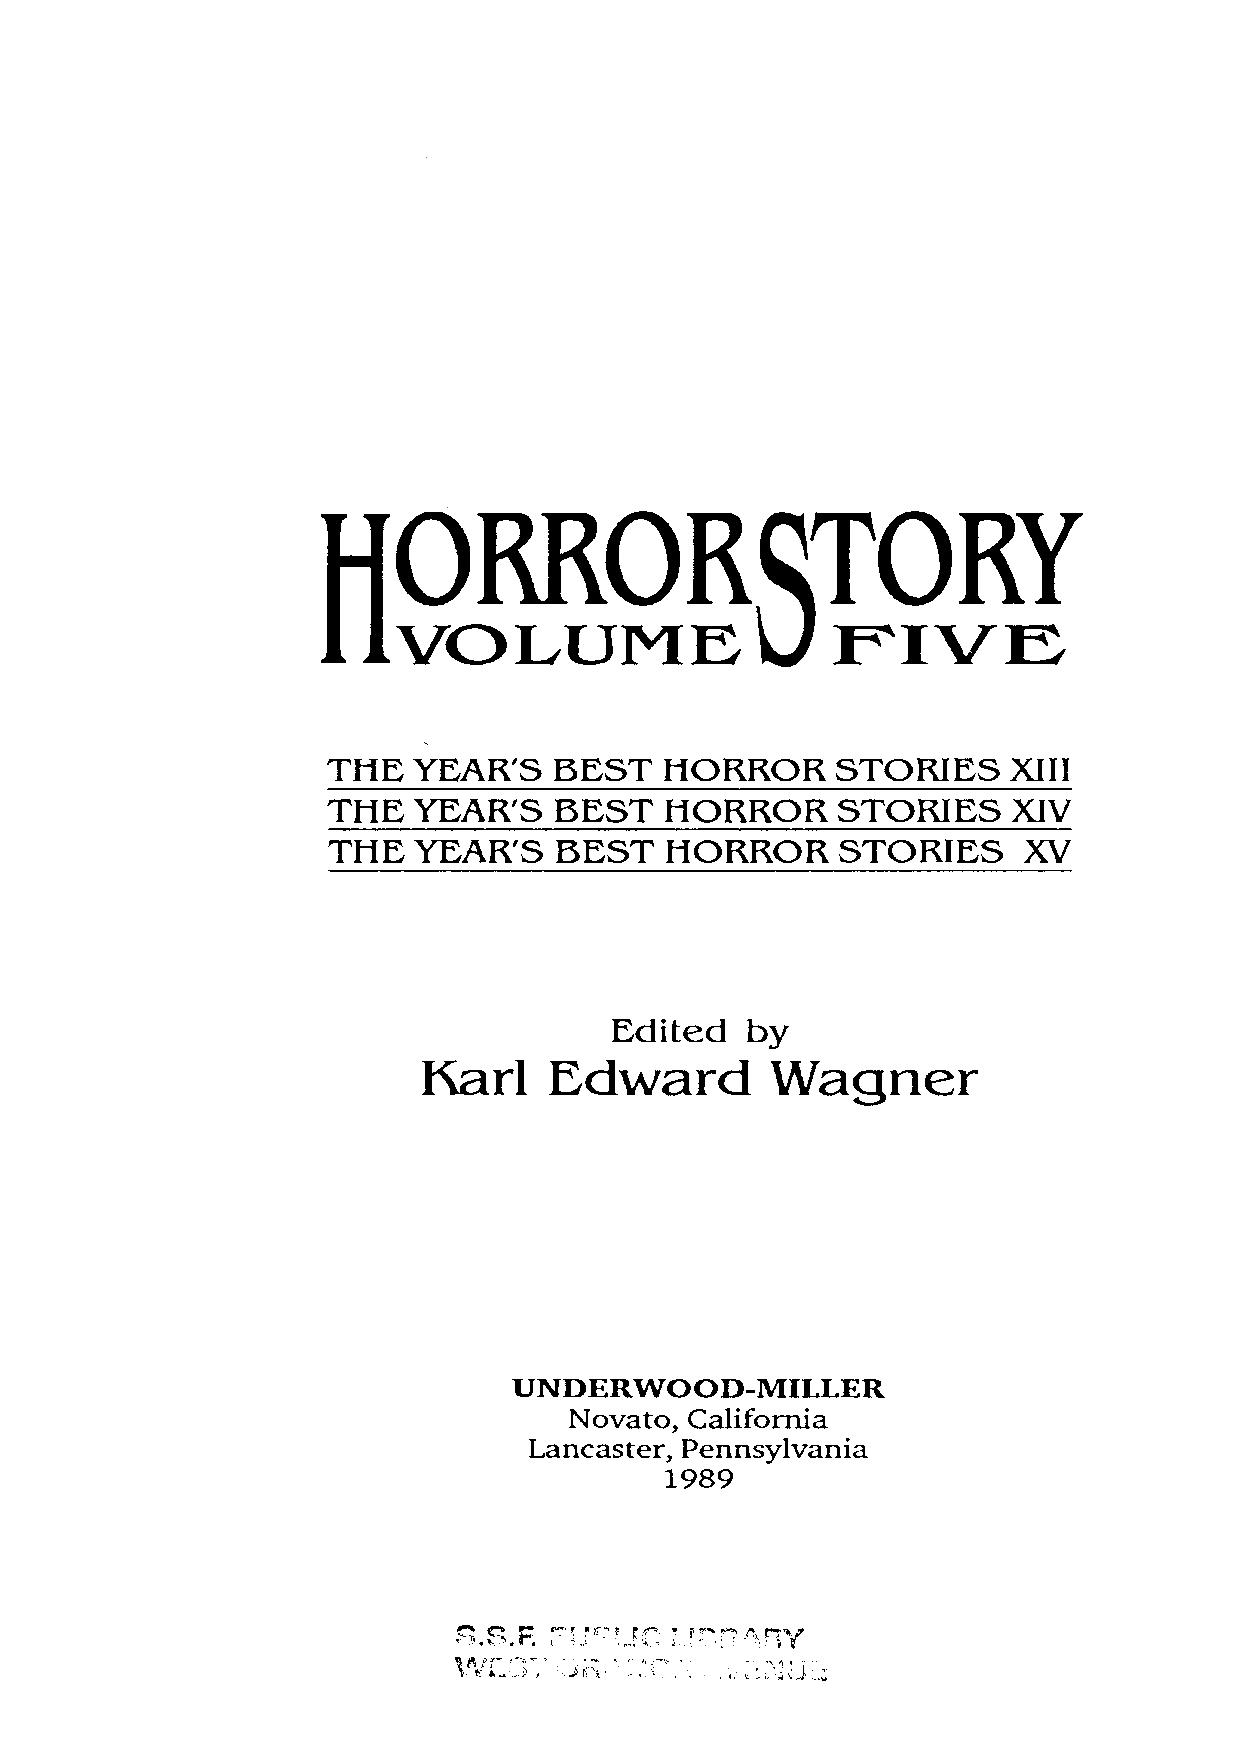author: (415, 1015, 978, 1108)
title: (315, 509, 1083, 670)
